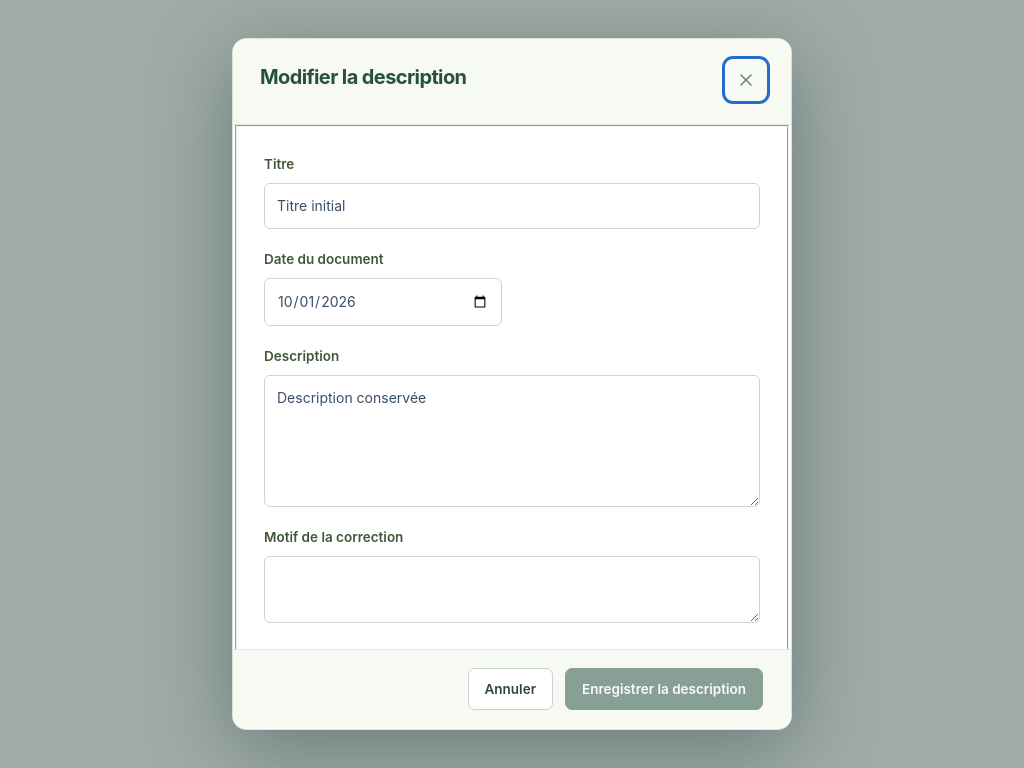
Test case: conserve les corrections locales après un conflit et ne contourne pas le verrou de version
Replace the text in the field labelled "Titre" with "Correction locale". click: [512, 206]
box: [264,183,760,229]
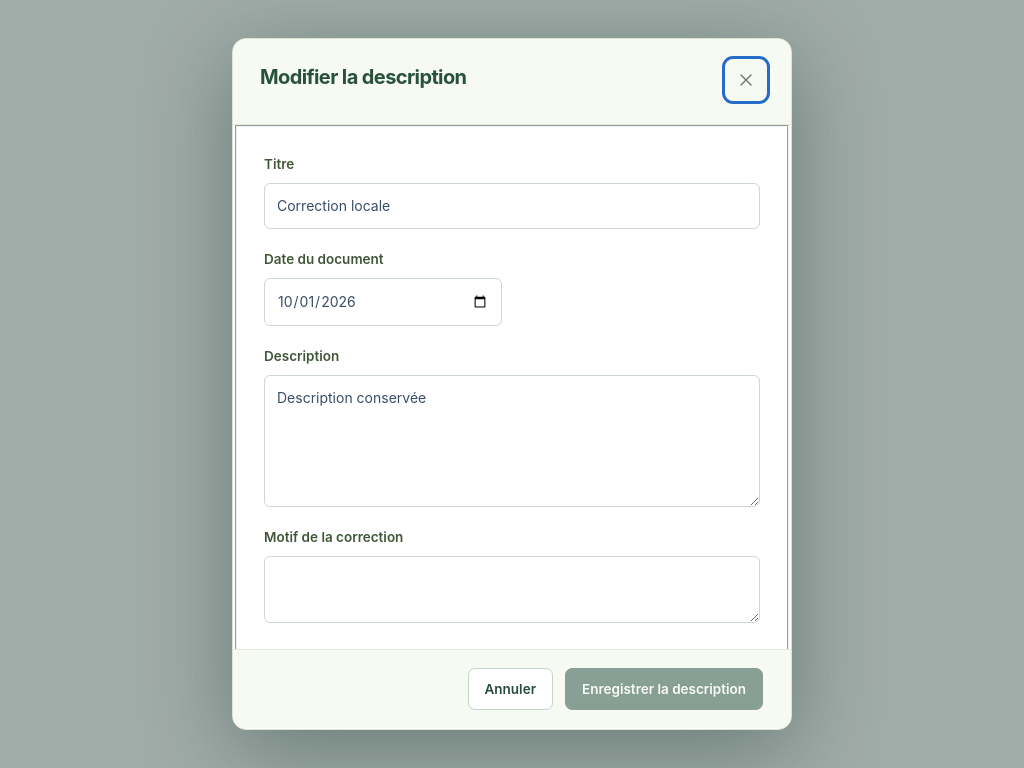
Type "Motif" into the text box labelled "Motif de la correction". click: [512, 590]
box: [264,556,760,623]
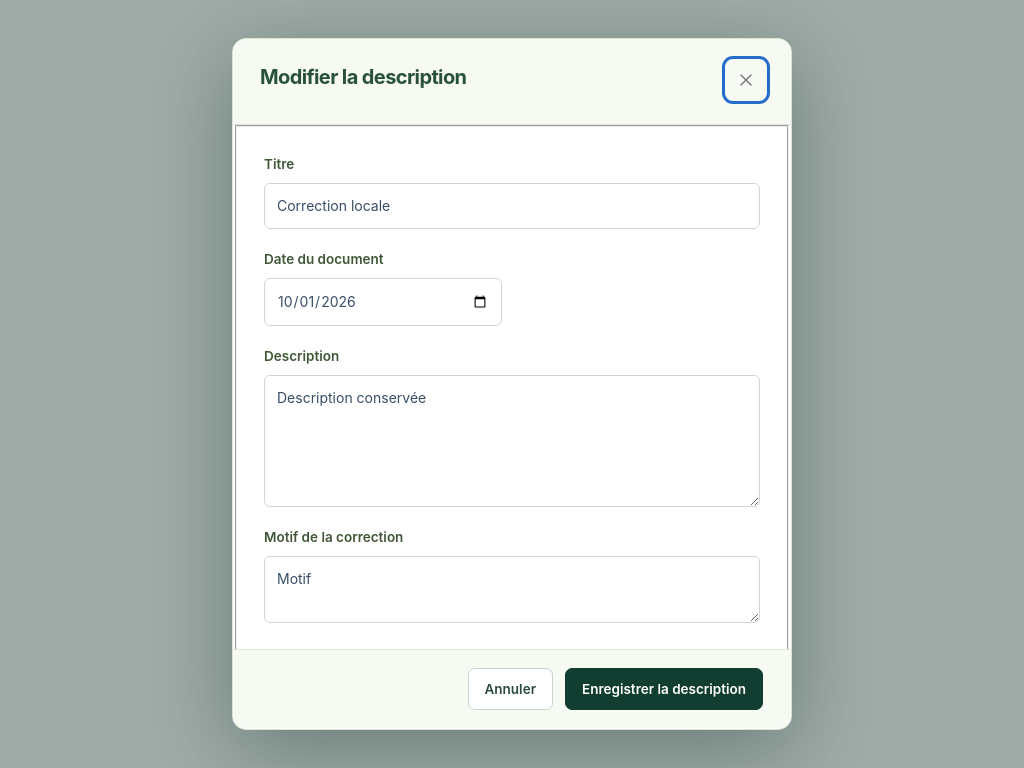
Click the button "Enregistrer la description". click: [664, 690]
box: [565,669,763,711]
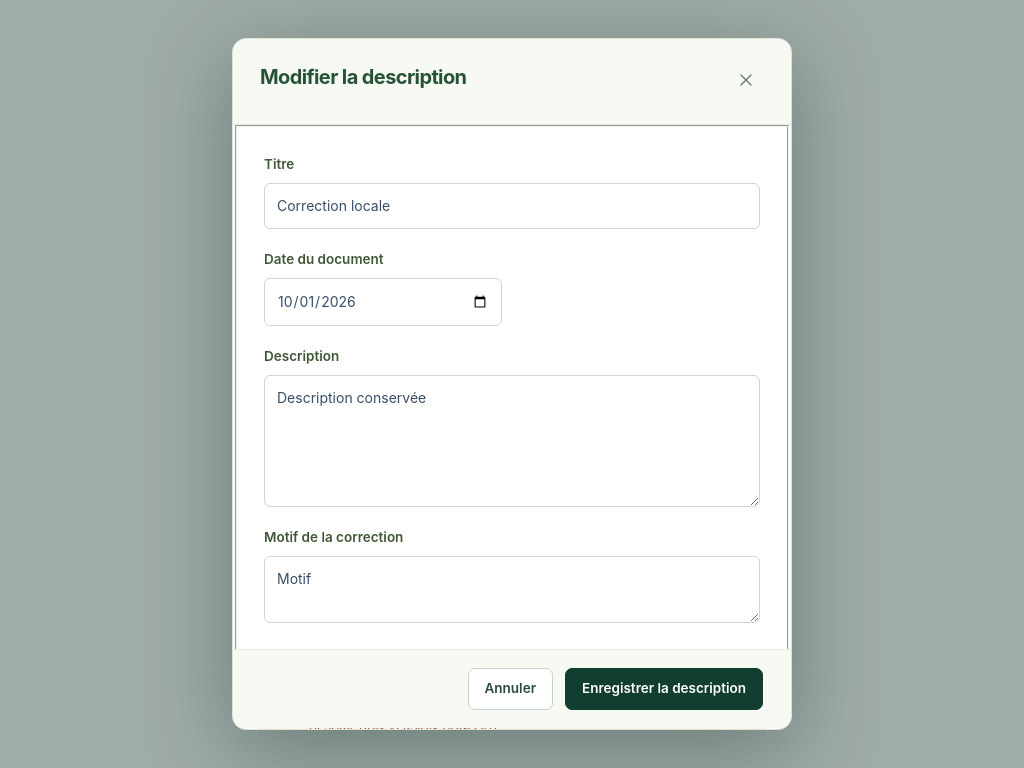
Check: the message "Conflit de données La notice a changé. DESCRIPTION_VERSION_CONFLICT" is shown, box [260,652,764,730]
